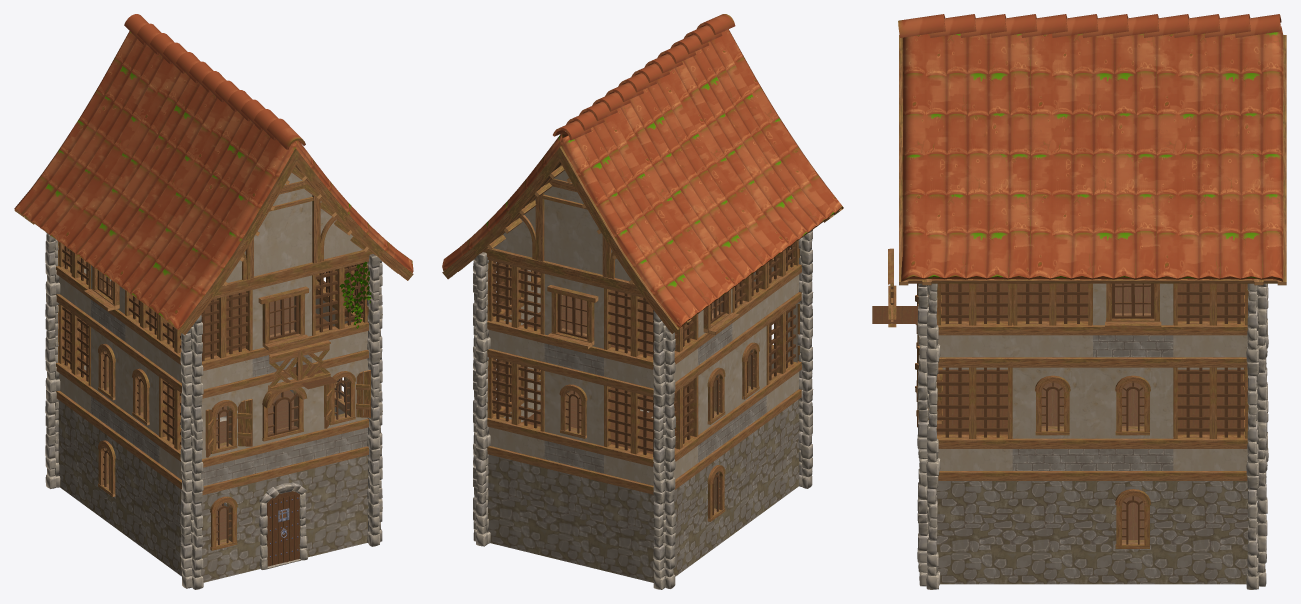
The model's file is house_shop_narrow_8.gltf.
3 renders of one model, left to right at view 1: azimuth 30°, elevation 25°; view 2: azimuth 150°, elevation 25°; view 3: azimuth 270°, elevation 25°, orthographic. The views are drawn at different scales.
Parts seen in each view (by area): view 1: House; view 2: House; view 3: House.
Part boxes in pixels (left/top/right/bottom): House: left=14, top=14, right=413, bottom=589; House: left=442, top=14, right=843, bottom=589; House: left=872, top=14, right=1286, bottom=589.
Size of what is drawn, in the model's own units: 8.25 by 14.26 by 10.33.
Materials: 10 (9 with a texture image).
